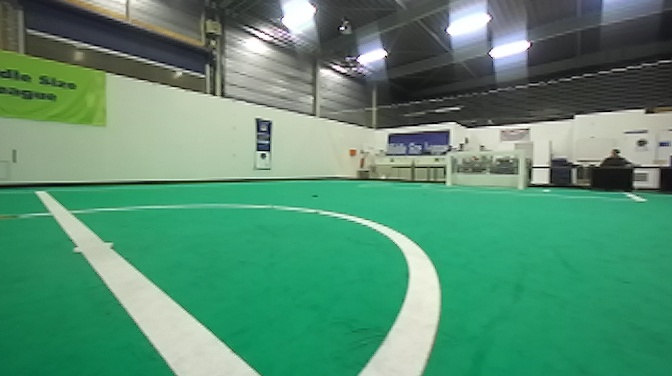goalpost: (512, 142, 528, 189), (441, 150, 457, 187)
